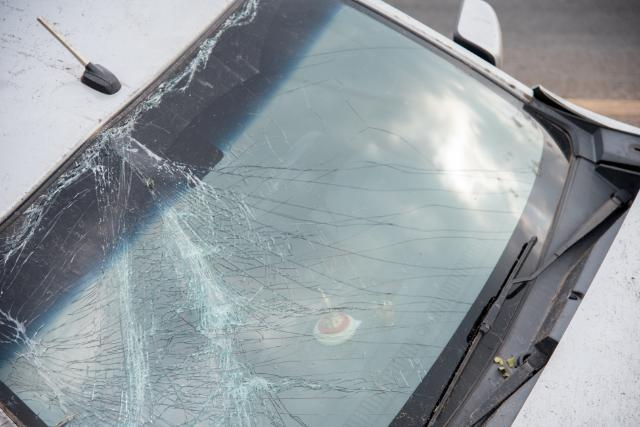Windshield: (0, 0, 576, 427)
